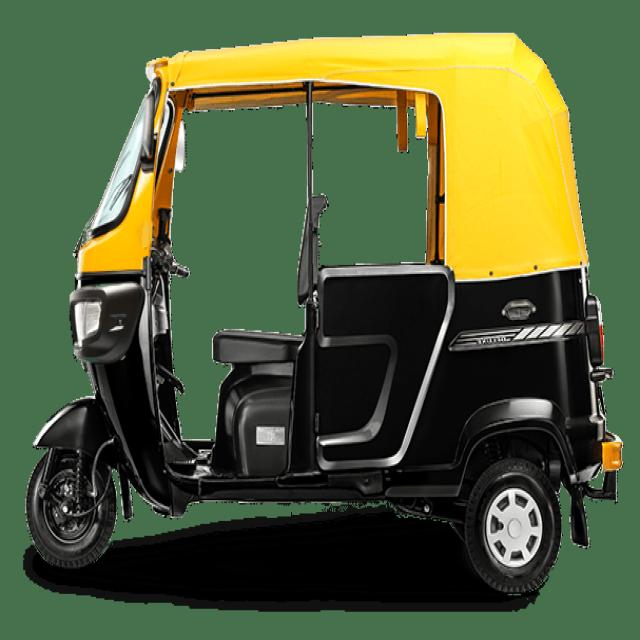autorickshaw: (26, 34, 622, 593)
